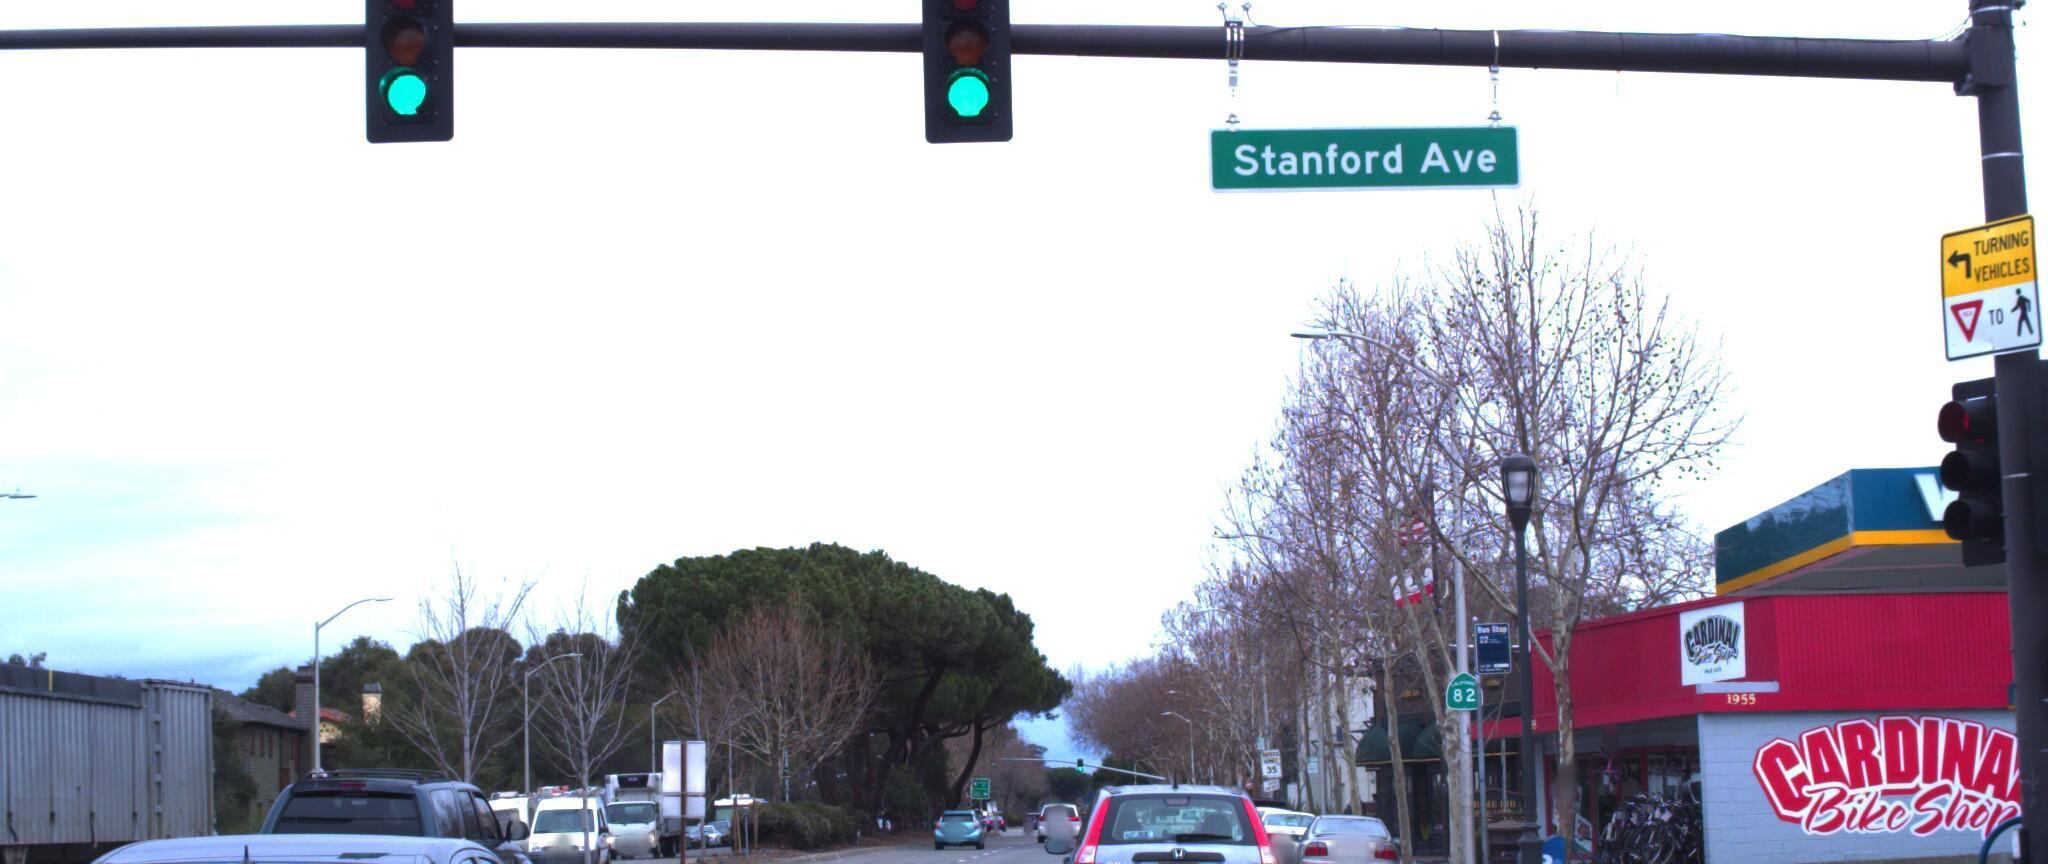bicycle: (1626, 787, 1738, 864), (1631, 787, 1744, 864)
car: (0, 799, 633, 864), (189, 754, 551, 864), (1038, 765, 1304, 864), (490, 773, 602, 864), (1276, 801, 1395, 864), (1230, 800, 1319, 864)
truck: (0, 613, 238, 864)
